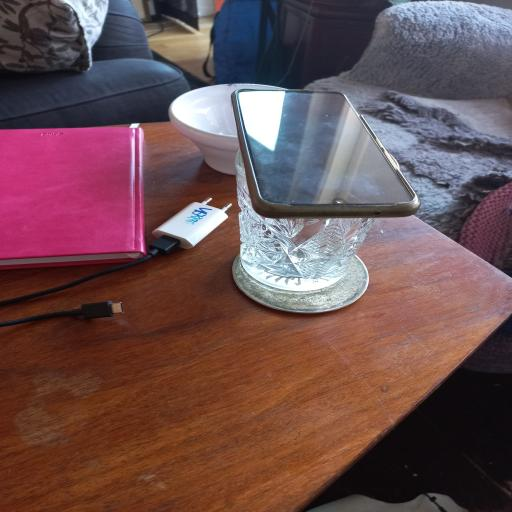phone: (232, 89, 419, 217)
